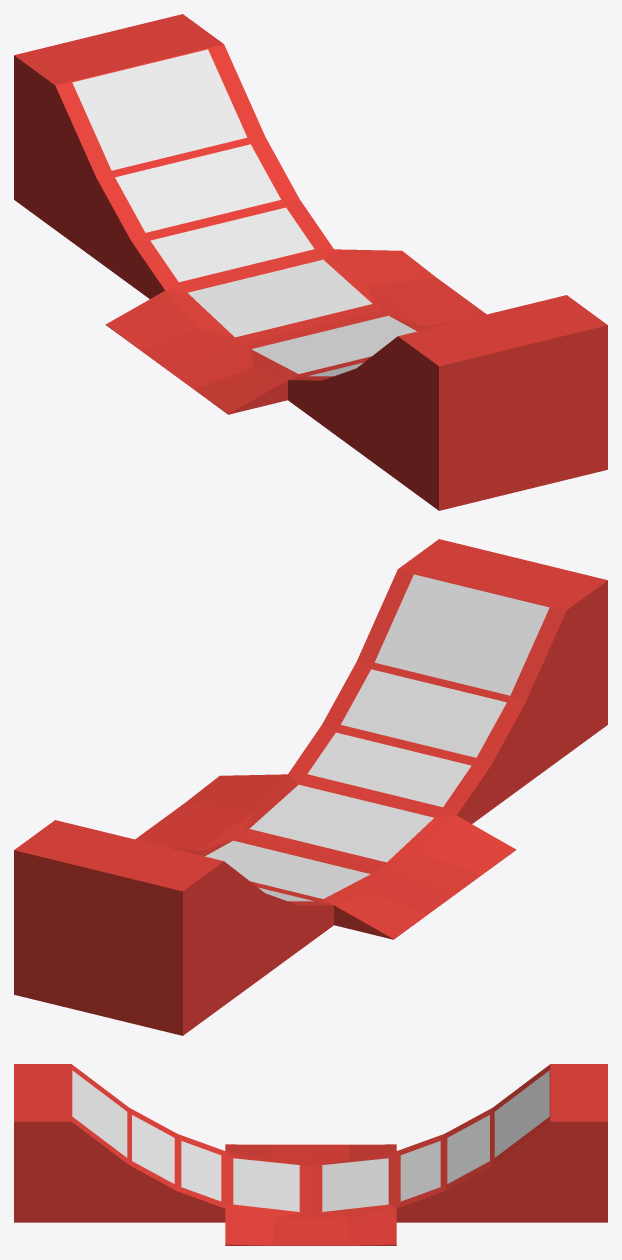
The model's file is HalfPipe.fbx.
3 renders of one model, top to bottom at view 1: azimuth 30°, elevation 25°; view 2: azimuth 150°, elevation 25°; view 3: azimuth 270°, elevation 25°, orthographic. The views are drawn at different scales.
Visible parts, largest first — view 1: Cube; view 2: Cube; view 3: Cube.
Boxes of the visible parts, x1,y1,x2,y2 form: Cube: (14, 14, 607, 510); Cube: (14, 539, 607, 1035); Cube: (14, 1064, 607, 1245).
Bounding box in the file's own units: 2491 × 1160 × 6184.
